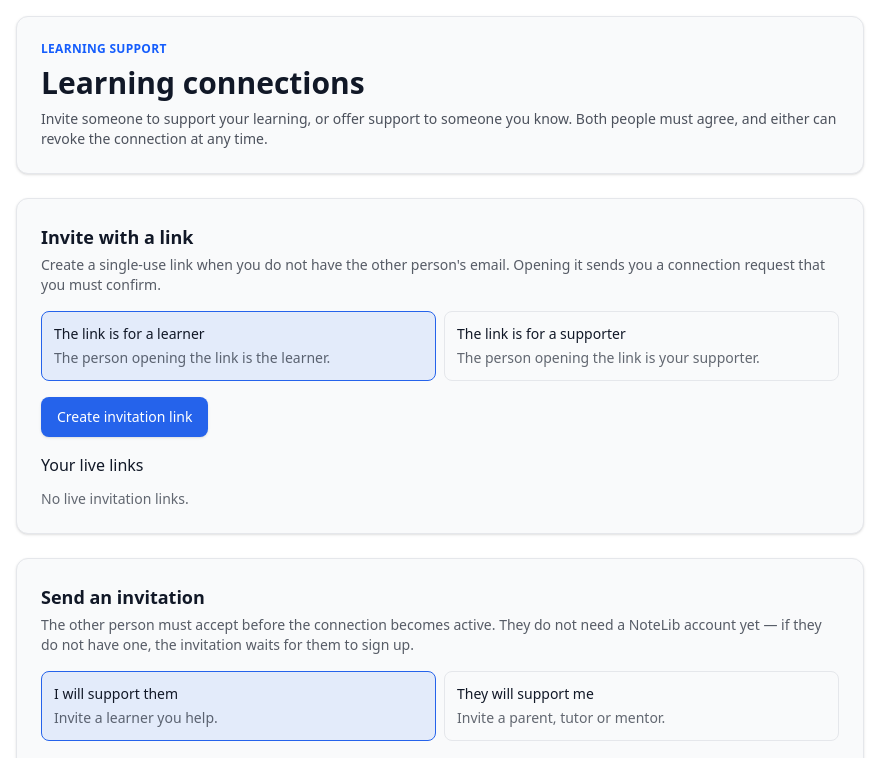
Test: creates a single-use invitation link
Expected: the text "No live invitation links." is shown, [41,489,189,508]
Click the button "Create invitation link" at (125,417), box [41,397,208,437]
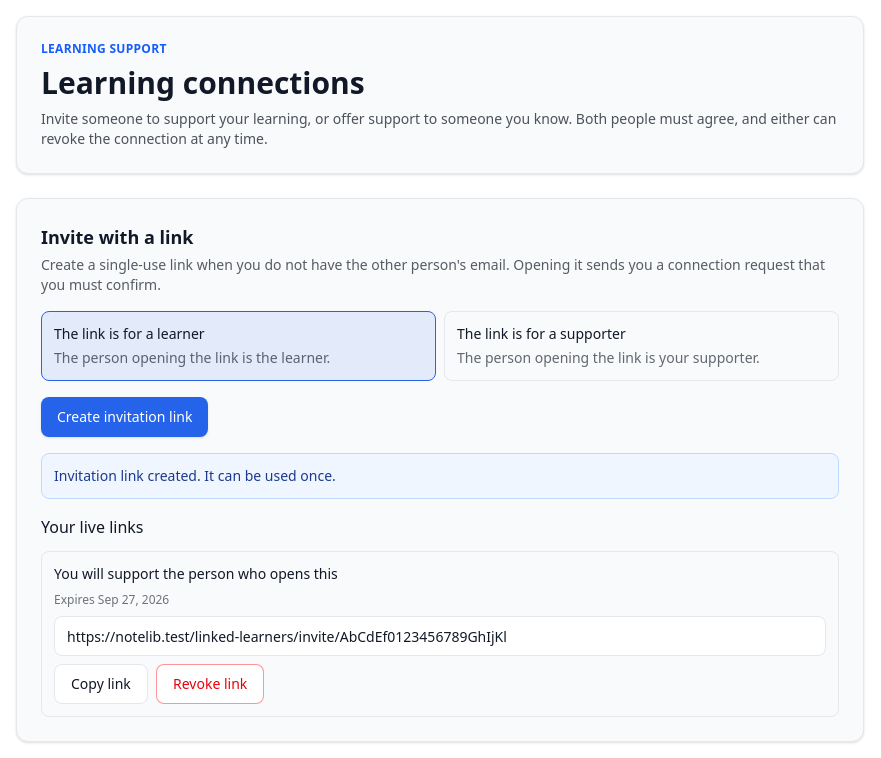
Expected: the field showing "https://notelib.test/linked-learners/invite/AbCdEf0123456789GhIjKl" is shown, [54,616,826,656]
